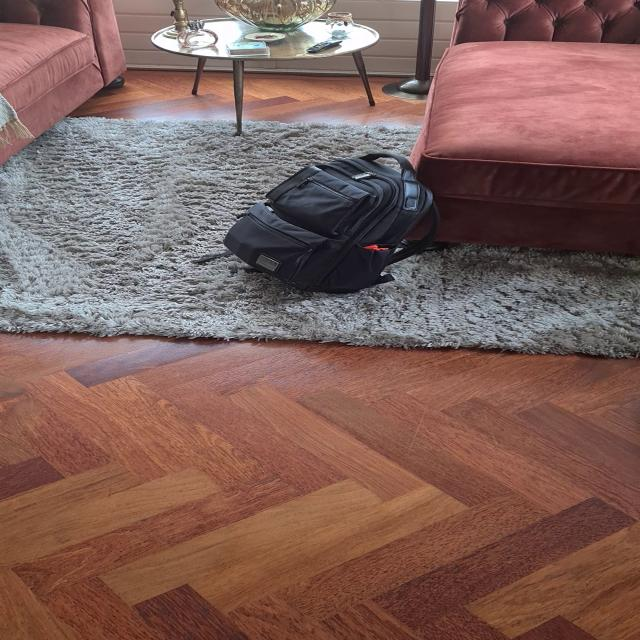backpack: (218, 150, 450, 298)
